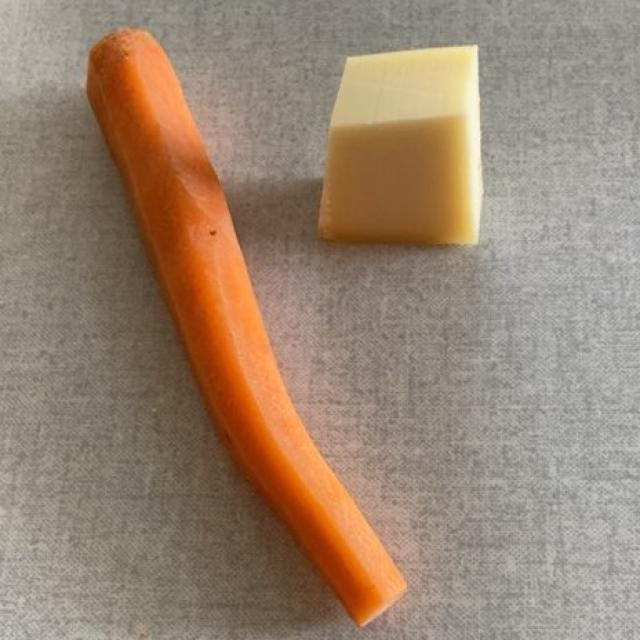carrot-raw: (91, 34, 392, 614)
